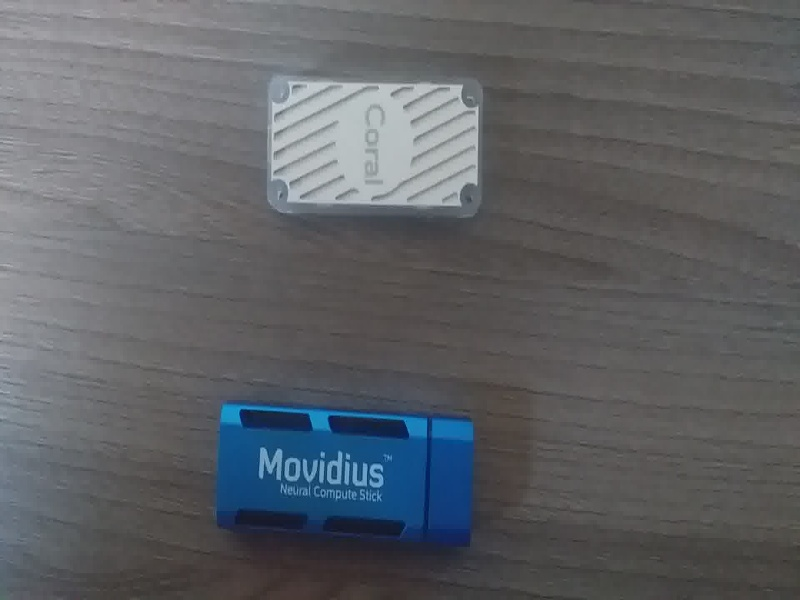coral: (262, 72, 491, 235)
movidius: (209, 391, 488, 562)
